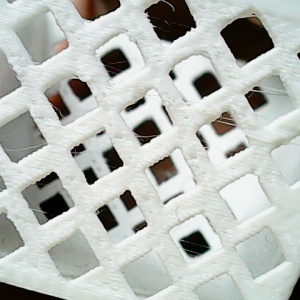3dpstringing: (245, 83, 290, 100), (7, 141, 50, 157), (177, 241, 217, 258), (27, 202, 56, 222), (212, 114, 241, 130), (51, 103, 70, 124), (127, 133, 160, 145), (69, 75, 95, 88), (174, 207, 185, 236), (142, 11, 157, 31), (158, 1, 177, 13)
3dpunderextrusion: (102, 122, 134, 159), (66, 25, 97, 53)
